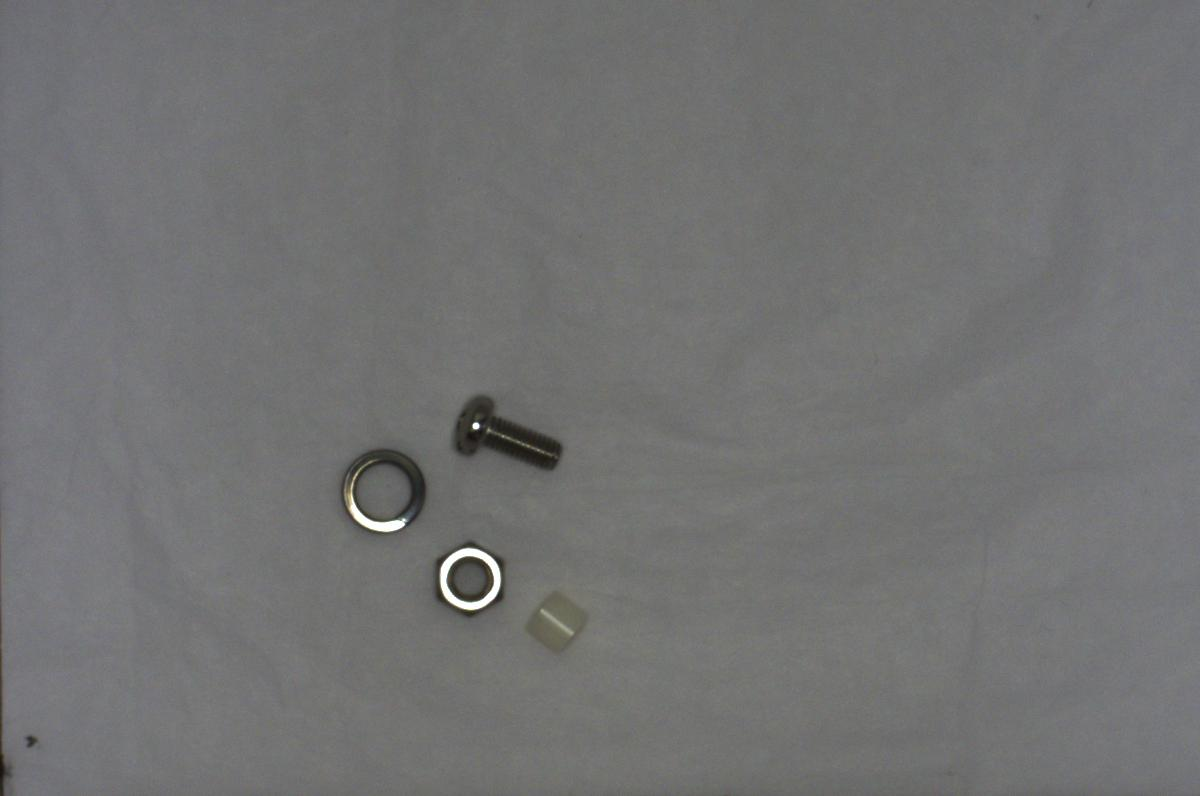Hexagon nut: (426, 530, 513, 623)
Plastic cushion pillar: (519, 583, 597, 652)
Round head screw: (445, 387, 573, 470)
Spring washer: (334, 442, 434, 536)
